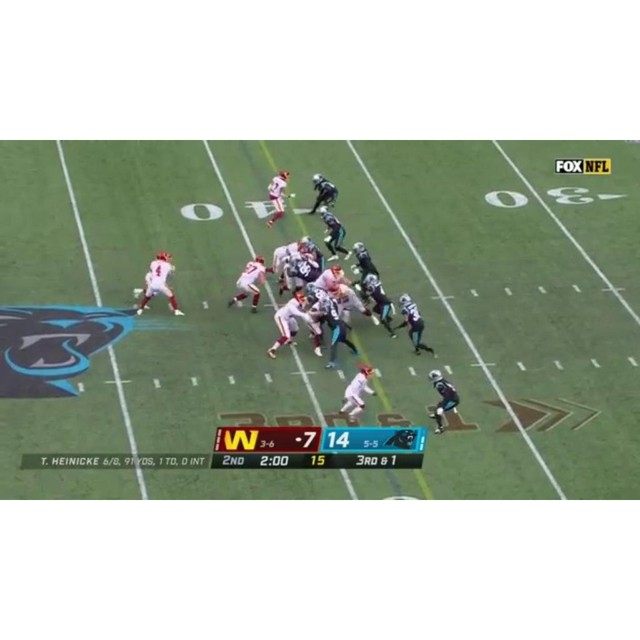american-football-player: (136, 252, 184, 318), (318, 296, 359, 368), (266, 292, 309, 359), (334, 365, 378, 425), (361, 275, 399, 339), (398, 294, 436, 358), (229, 255, 270, 312), (426, 369, 461, 435), (319, 207, 351, 261), (303, 288, 328, 356), (266, 169, 292, 229), (351, 241, 381, 284), (310, 173, 339, 215)
